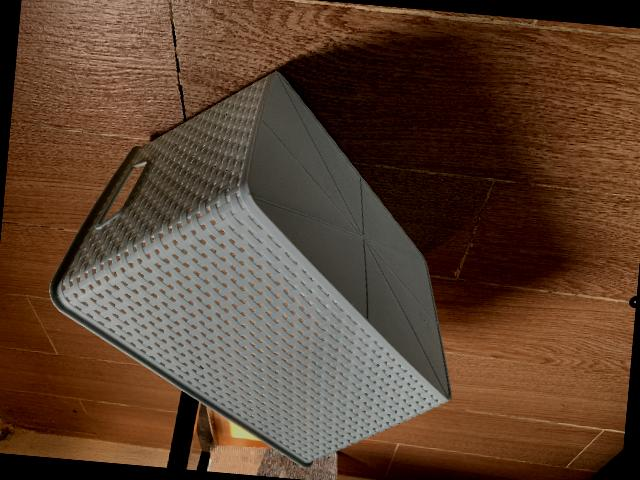cart: (47, 67, 452, 465)
